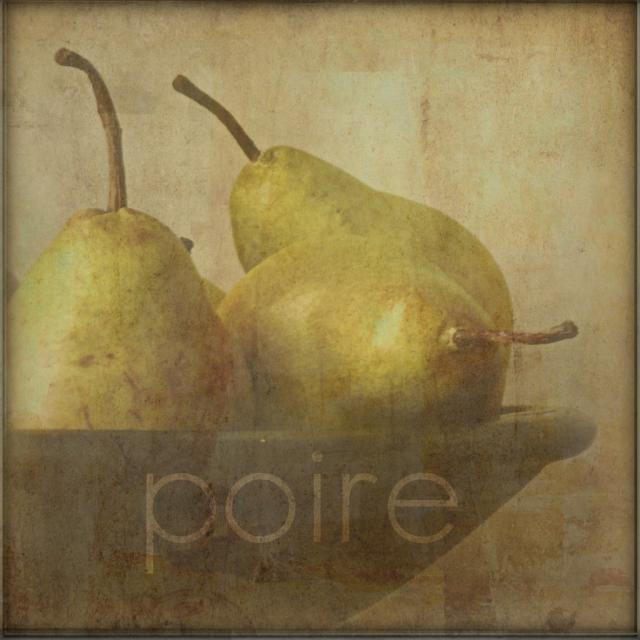pear: (213, 232, 508, 432), (220, 146, 518, 342), (6, 202, 255, 436)
